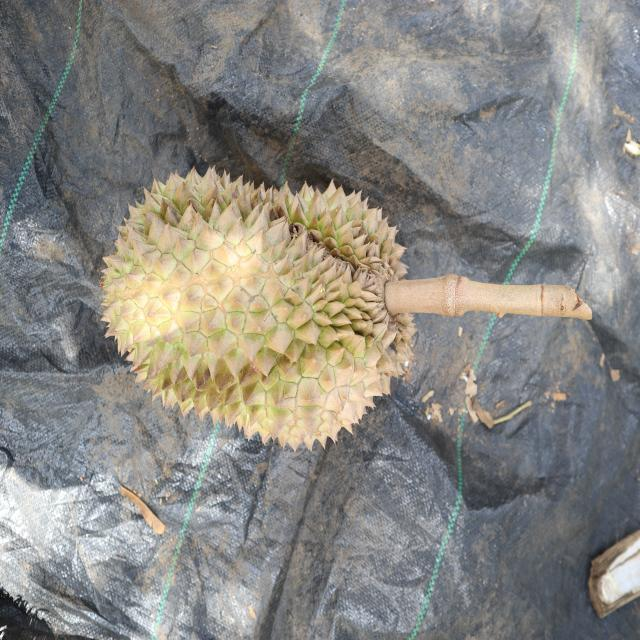mature: (99, 167, 414, 452)
